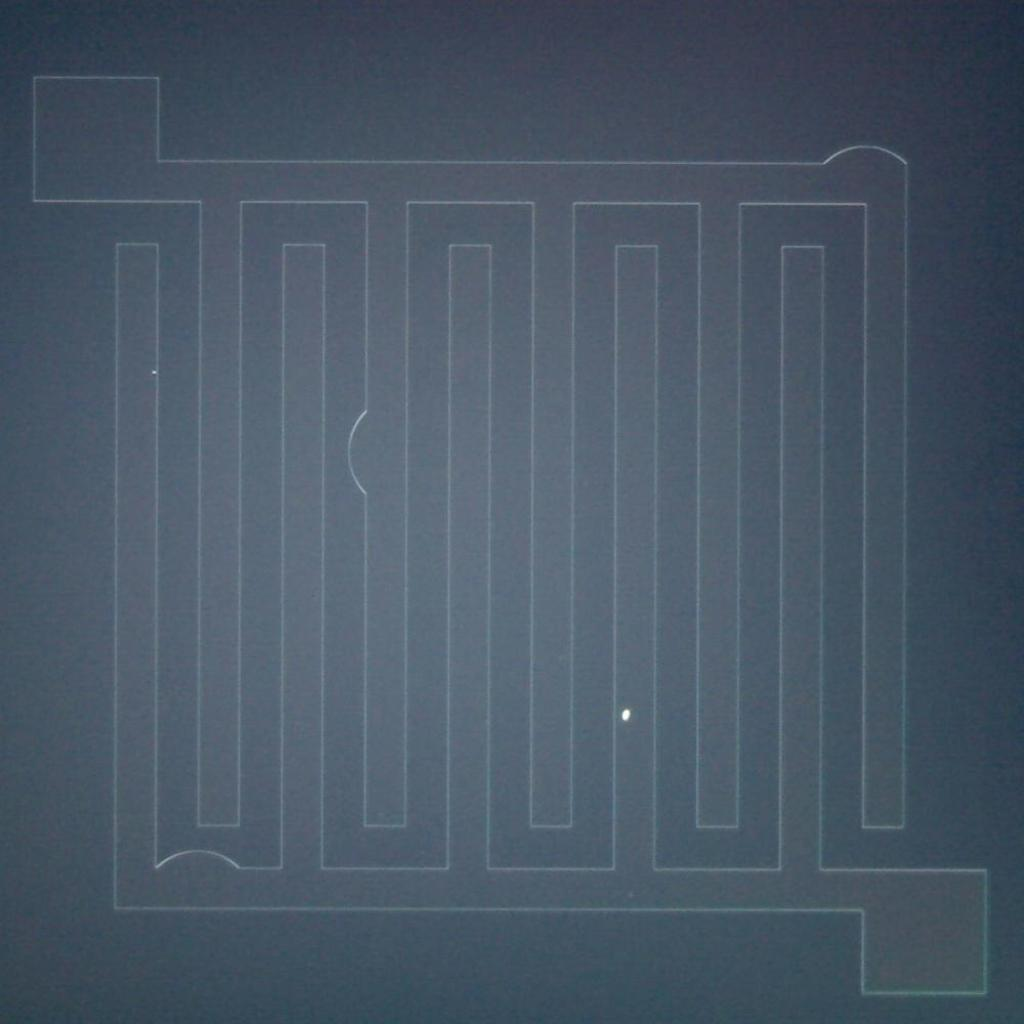dot: (620, 709, 630, 719), (152, 370, 156, 374)
